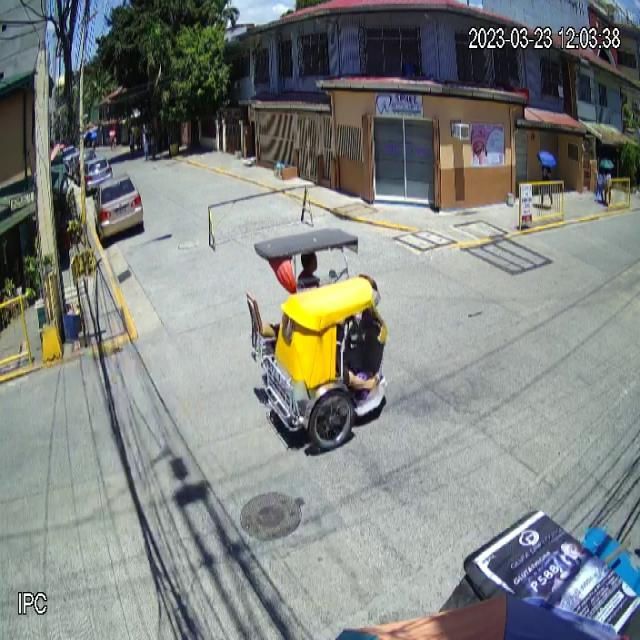Tricycle: (243, 226, 390, 454)
